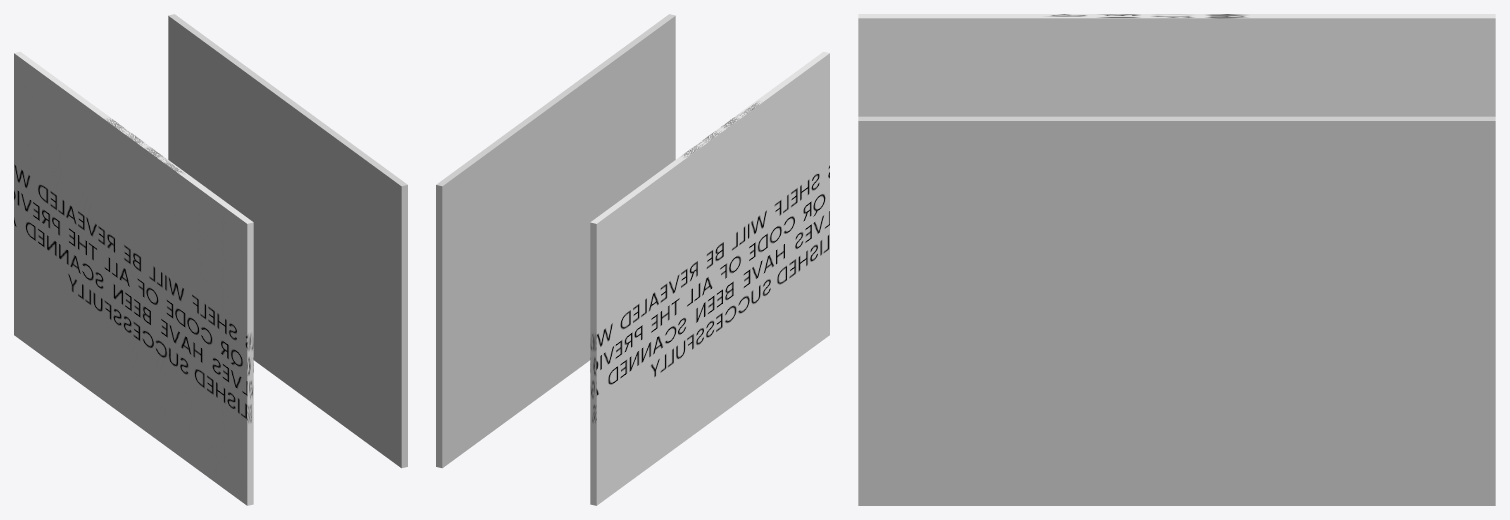
The model's file is curtain.glb.
3 views of the same model, side by side, from view 1: azimuth 30°, elevation 25°; view 2: azimuth 150°, elevation 25°; view 3: azimuth 270°, elevation 25° (orthographic). The views are drawn at different scales.
Parts seen in each view (by area): view 1: Cube.008, Cube.007; view 2: Cube.008, Cube.007; view 3: Cube.007, Cube.008.
Boxes of the visible parts, x1,y1,x2,y2 form: Cube.008: [14, 51, 253, 505]; Cube.007: [168, 14, 407, 468]; Cube.008: [590, 51, 829, 505]; Cube.007: [436, 14, 675, 468]; Cube.007: [858, 116, 1495, 505]; Cube.008: [858, 14, 1495, 116].
Size of the model in its own units: 0.5006 by 0.84 by 1.26.
Materials: 2 (1 with a texture image).
